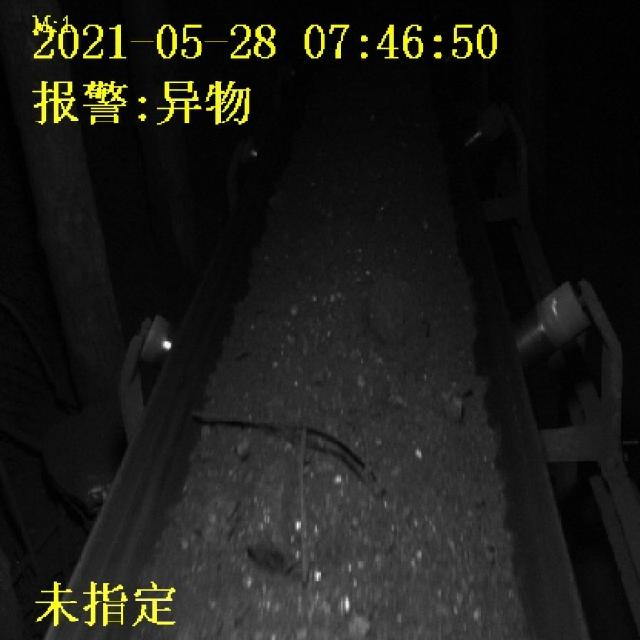bolt: (194, 405, 383, 609)
large_sized_coal: (248, 483, 298, 572), (371, 274, 414, 349)
